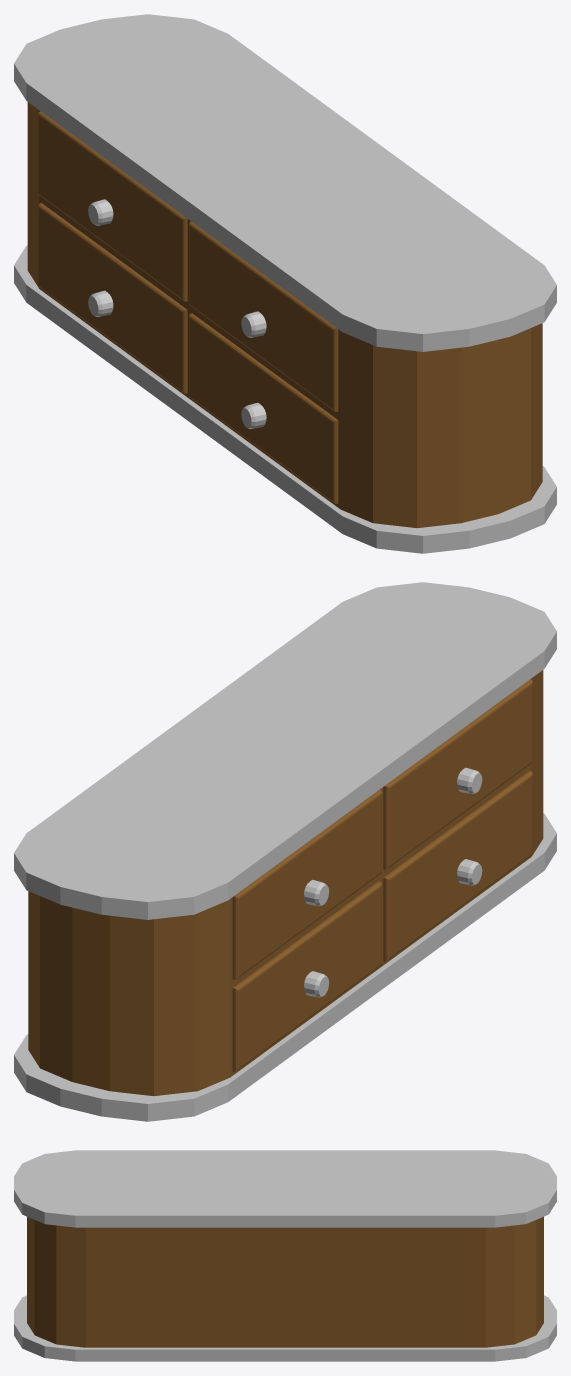
File: Wardrobe_8.fbx
3 renders of one model, top to bottom at view 1: azimuth 30°, elevation 25°; view 2: azimuth 150°, elevation 25°; view 3: azimuth 270°, elevation 25°, orthographic. The views are drawn at different scales.
Parts seen in each view (by area): view 1: Wardrobe_8, Wardrobe_8 Door_2, Wardrobe_8 Door_1, Wardrobe_8 Door_3, Wardrobe_8 Door_4; view 2: Wardrobe_8, Wardrobe_8 Door_1, Wardrobe_8 Door_2, Wardrobe_8 Door_4, Wardrobe_8 Door_3; view 3: Wardrobe_8.
Boxes of the visible parts, x1,y1,x2,y2 form: Wardrobe_8: (14, 14, 556, 553); Wardrobe_8 Door_2: (38, 203, 187, 393); Wardrobe_8 Door_1: (189, 313, 338, 503); Wardrobe_8 Door_3: (38, 111, 187, 301); Wardrobe_8 Door_4: (189, 221, 338, 411); Wardrobe_8: (14, 582, 556, 1121); Wardrobe_8 Door_1: (383, 771, 532, 961); Wardrobe_8 Door_2: (232, 881, 381, 1071); Wardrobe_8 Door_4: (383, 679, 532, 869); Wardrobe_8 Door_3: (232, 789, 381, 979); Wardrobe_8: (14, 1150, 556, 1361).
Bounding box in the file's own units: 0.4342 × 0.4215 × 1.42.
